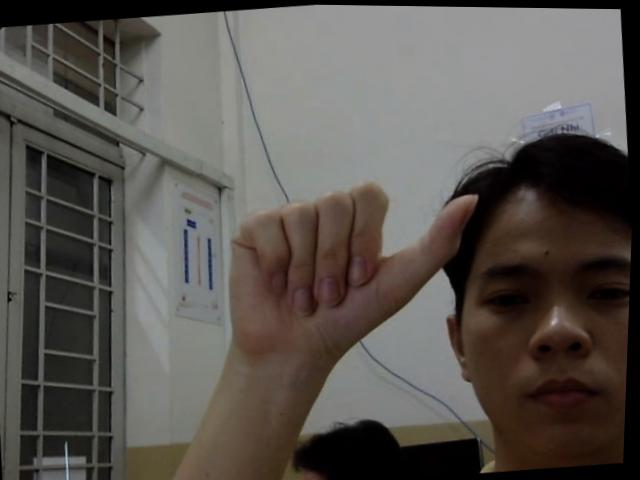A: (205, 167, 494, 355)
